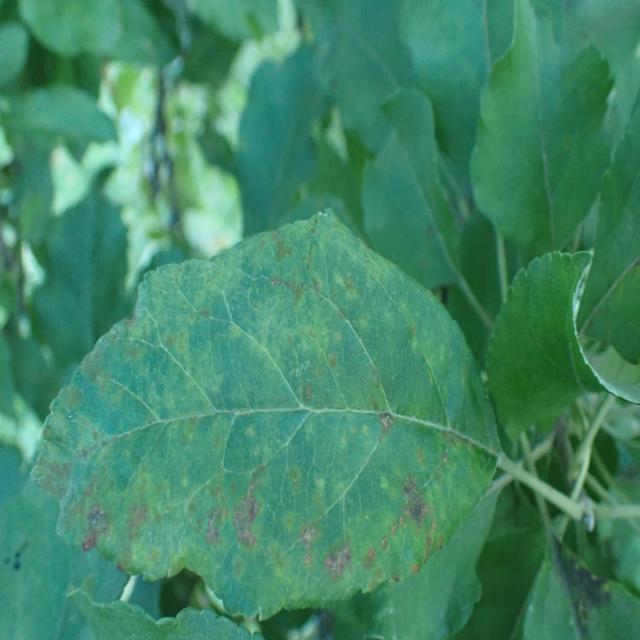scab: (39, 233, 495, 594)
